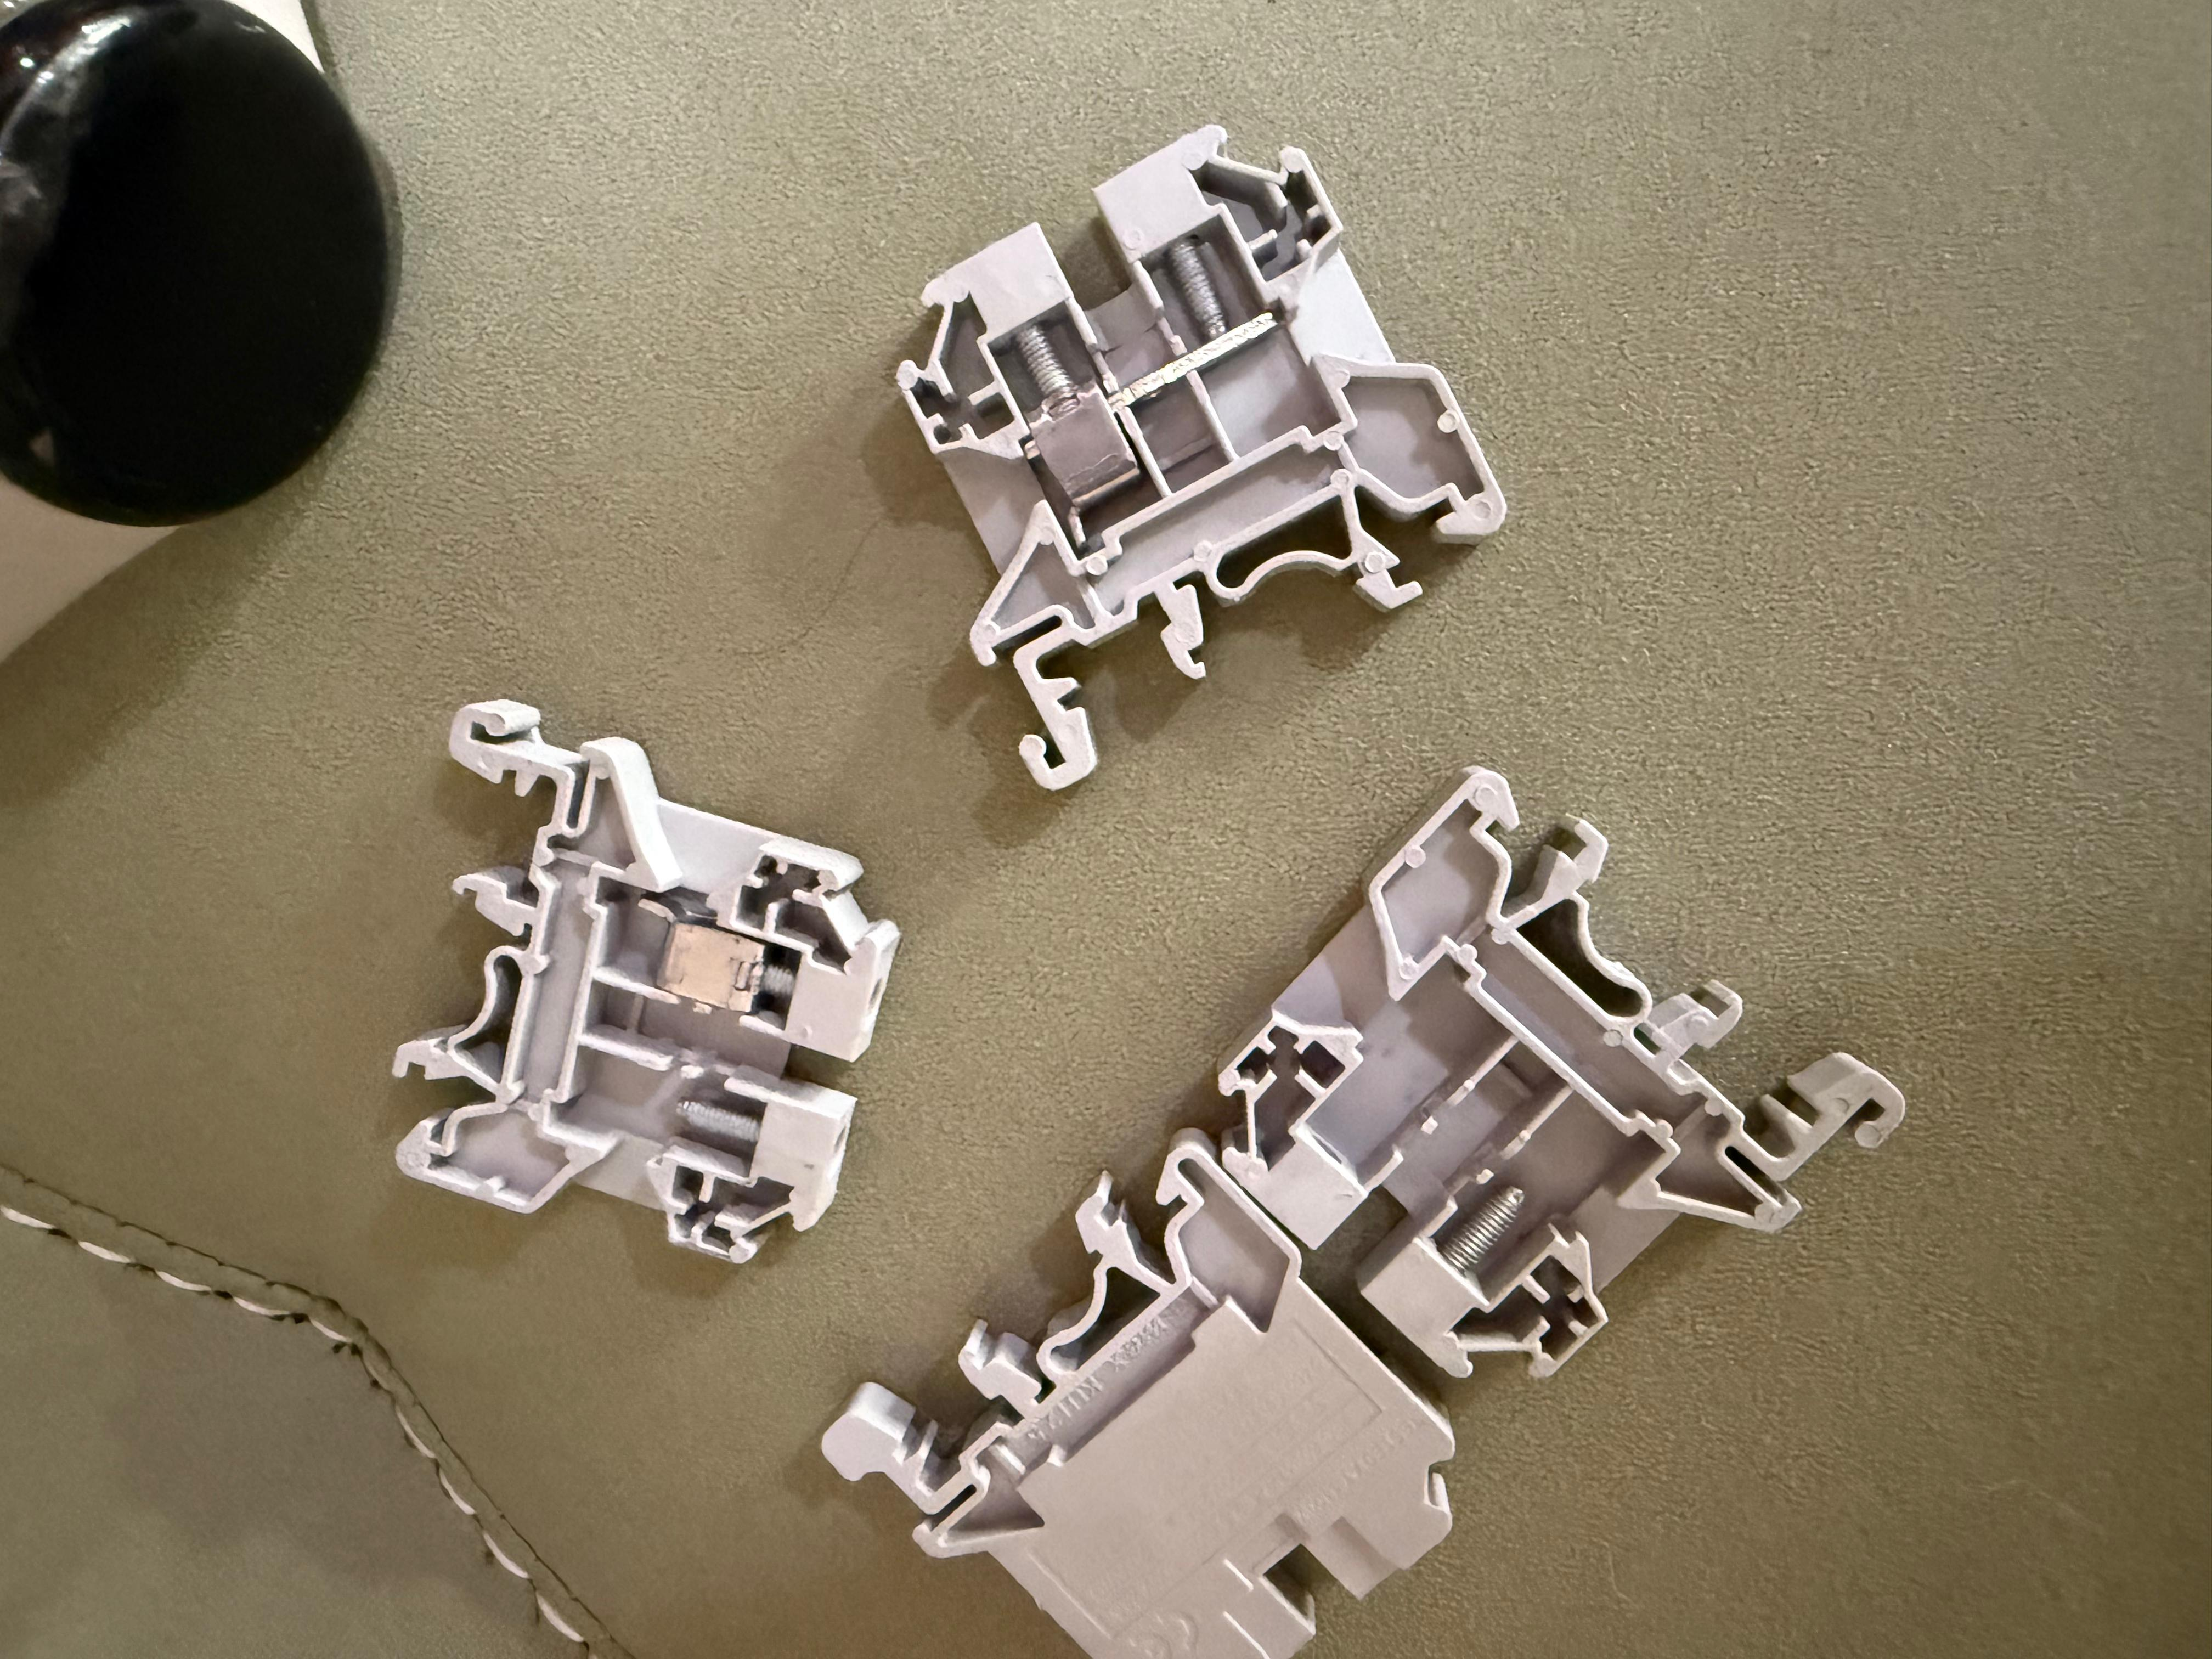Inverted: (826, 1136, 1465, 1659)
Reject: (1202, 760, 1926, 1373), (894, 113, 1531, 810), (373, 678, 890, 1281)
